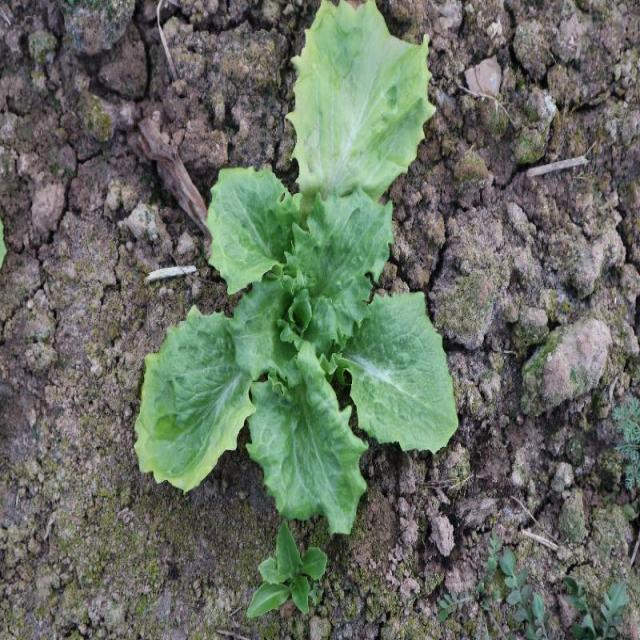crop: (134, 0, 461, 539)
